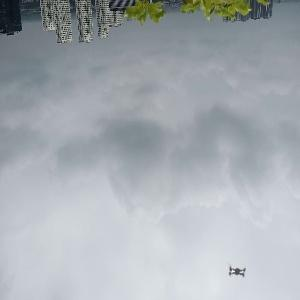drone: (217, 251, 262, 296)
